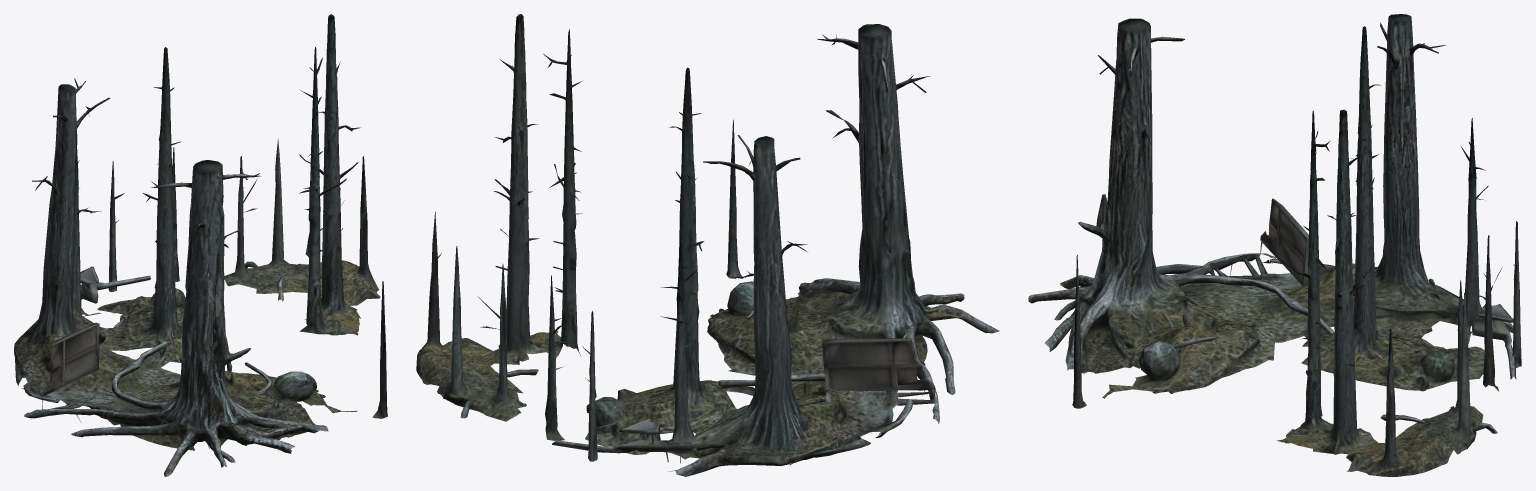
File: roadside_tree.glb
3 views of the same model, side by side, from view 1: azimuth 30°, elevation 25°; view 2: azimuth 150°, elevation 25°; view 3: azimuth 270°, elevation 25° (orthographic). The views are drawn at different scales.
Visible parts, largest first — view 1: tripo_node_12895429-571b-4b7e-a59b-263bd01e836e; view 2: tripo_node_12895429-571b-4b7e-a59b-263bd01e836e; view 3: tripo_node_12895429-571b-4b7e-a59b-263bd01e836e.
Boxes of the visible parts, bbox=[...] form: tripo_node_12895429-571b-4b7e-a59b-263bd01e836e: bbox=[14, 14, 387, 476]; tripo_node_12895429-571b-4b7e-a59b-263bd01e836e: bbox=[416, 14, 999, 476]; tripo_node_12895429-571b-4b7e-a59b-263bd01e836e: bbox=[1028, 14, 1521, 476].
Bounding box in the file's own units: 0.9206 × 0.6566 × 0.8818.
1 material, 1 textured.
